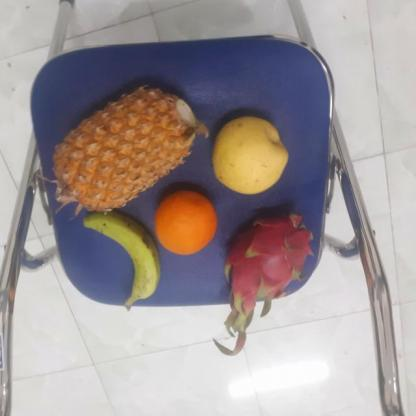banana: (76, 210, 162, 304)
orange: (151, 190, 219, 258)
pear: (209, 119, 291, 195)
pineapple: (52, 85, 196, 212)
pitaya: (218, 206, 314, 308)
